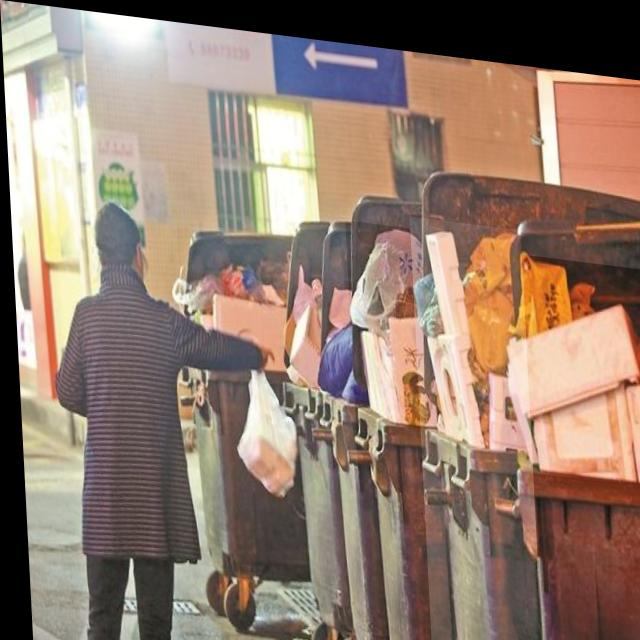overflow: (408, 206, 538, 640), (501, 239, 640, 640), (343, 211, 452, 640), (175, 223, 304, 572)
